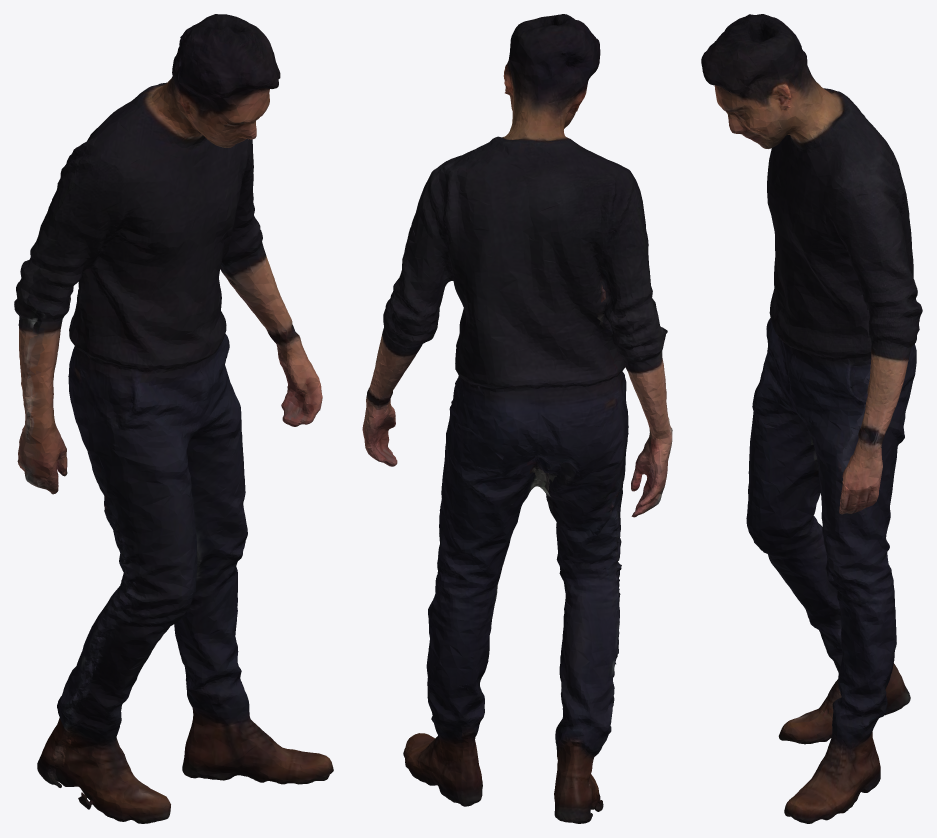
Rendered from human_00001.obj.
The picture shows the model from 3 angles, left to right: view 1: azimuth 30°, elevation 25°; view 2: azimuth 150°, elevation 25°; view 3: azimuth 270°, elevation 25°; orthographic projection. The views are drawn at different scales.
Bounding box in the file's own units: 707 × 1759 × 473.
1 material, 1 textured.
